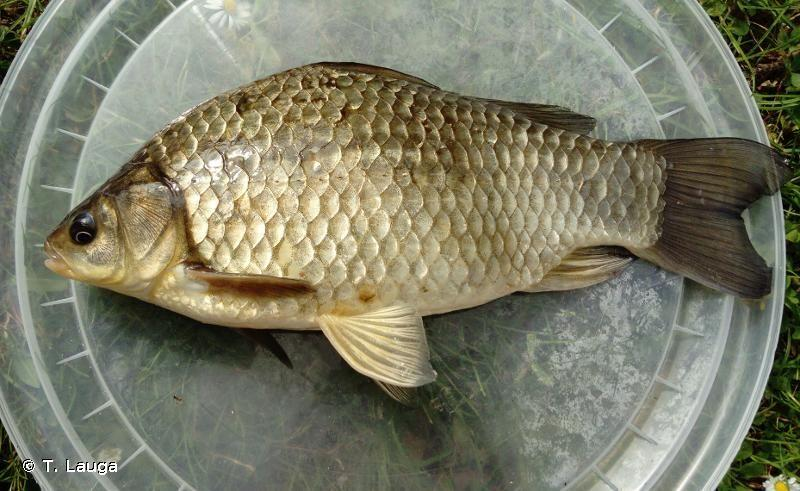Grass Carp: (43, 61, 788, 410)
